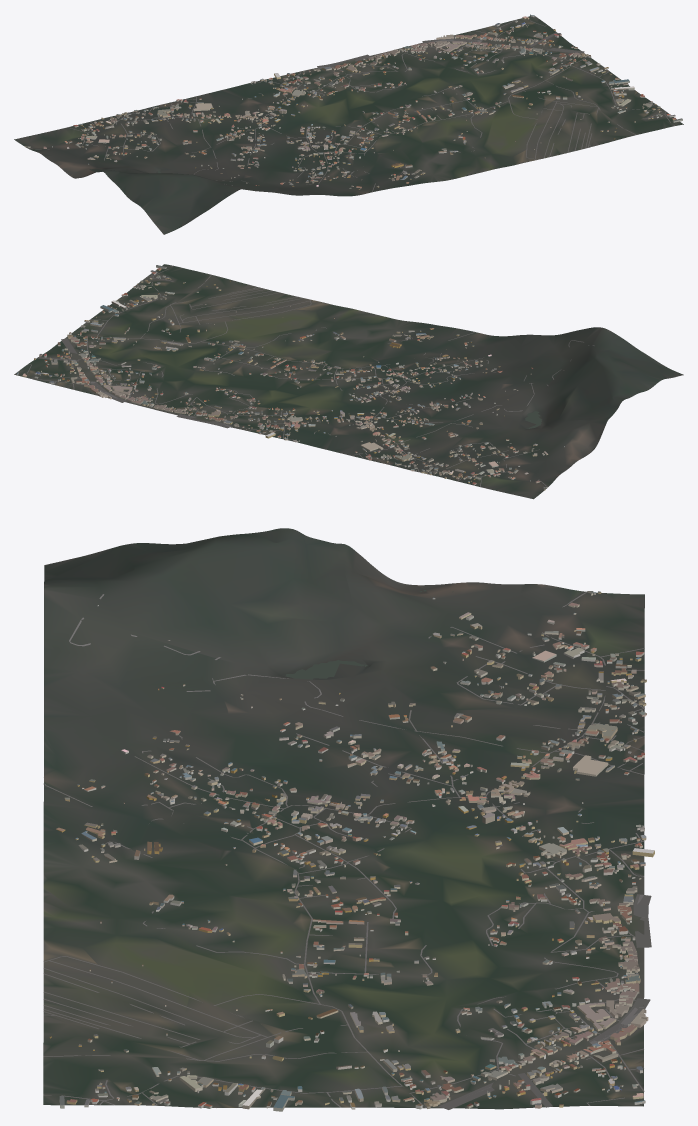
The picture shows the model from 3 angles, top to bottom: view 1: azimuth 30°, elevation 25°; view 2: azimuth 150°, elevation 25°; view 3: azimuth 270°, elevation 25°; orthographic projection. The views are drawn at different scales.
Parts seen in each view (by area): view 1: ground, buildings, roads; view 2: ground, buildings, roads; view 3: ground, buildings, roads.
Part boxes in pixels (x1,y1,x2,y2): ground: (14,15,683,234); buildings: (25,14,682,189); roads: (28,19,674,192); ground: (14,264,683,499); buildings: (16,265,588,490); roads: (27,266,594,486); ground: (43,528,644,1109); buildings: (49,591,654,1111); roads: (43,591,651,1109).
Size of the model in its own units: 2827 by 237 by 1428.
